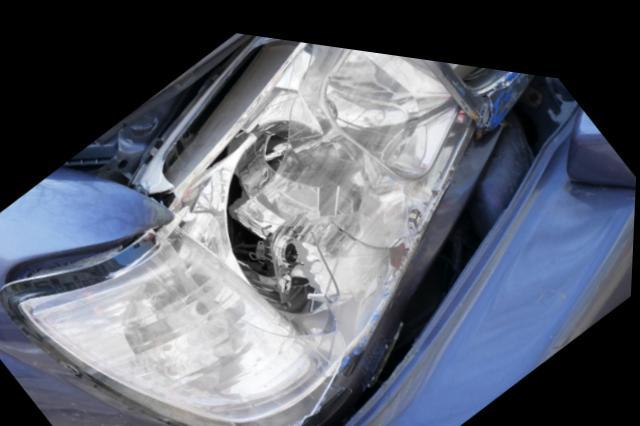lamp broken: (18, 30, 475, 426)
